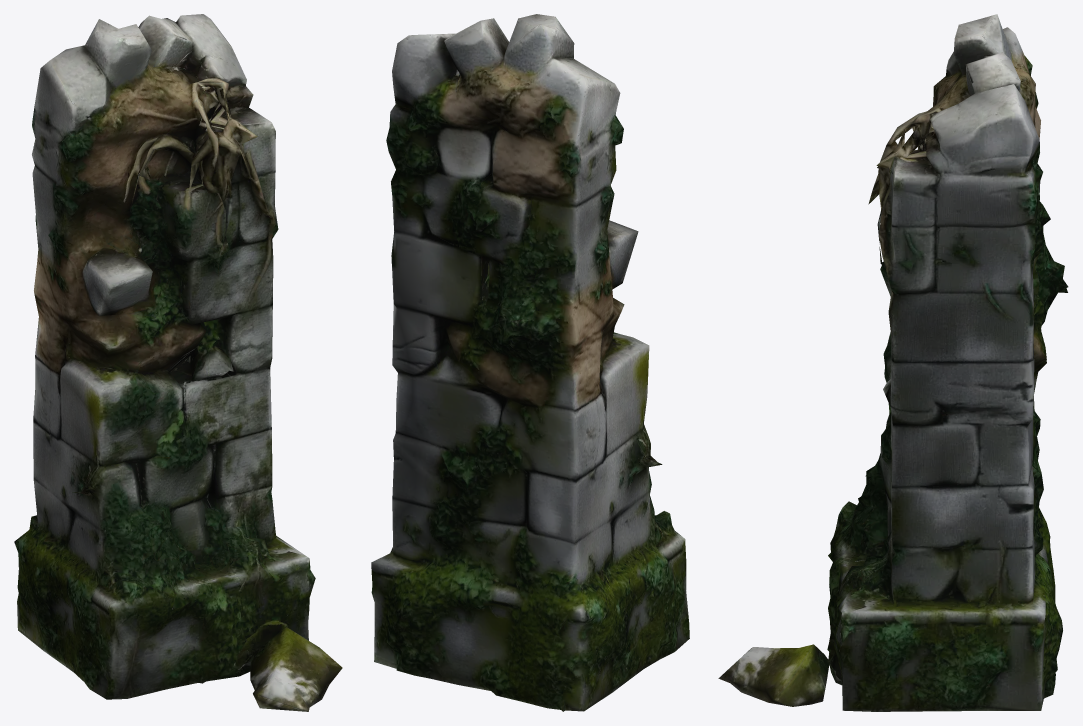
The model's file is Cementery_Pillar_Vari.glb.
3 views of the same model, side by side, from view 1: azimuth 30°, elevation 25°; view 2: azimuth 150°, elevation 25°; view 3: azimuth 270°, elevation 25° (orthographic). The views are drawn at different scales.
Parts seen in each view (by area): view 1: Cementery_Pillar_Vari; view 2: Cementery_Pillar_Vari; view 3: Cementery_Pillar_Vari.
Boxes of the visible parts, <box> form: Cementery_Pillar_Vari: <box>14,14,342,711</box>; Cementery_Pillar_Vari: <box>371,14,689,711</box>; Cementery_Pillar_Vari: <box>718,14,1068,711</box>.
Size of the model in its own units: 0.7097 by 1.94 by 0.9757.
Materials: 1 (1 with a texture image).
